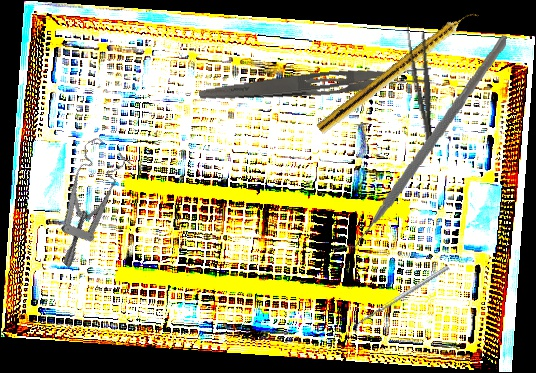Chopper: (333, 23, 507, 263)
Dressing Forceps: (198, 60, 433, 111), (403, 22, 441, 150)
Handpiece: (315, 4, 481, 138)
Spatula Surgical: (350, 264, 453, 334)
Speculum: (16, 131, 150, 269)
